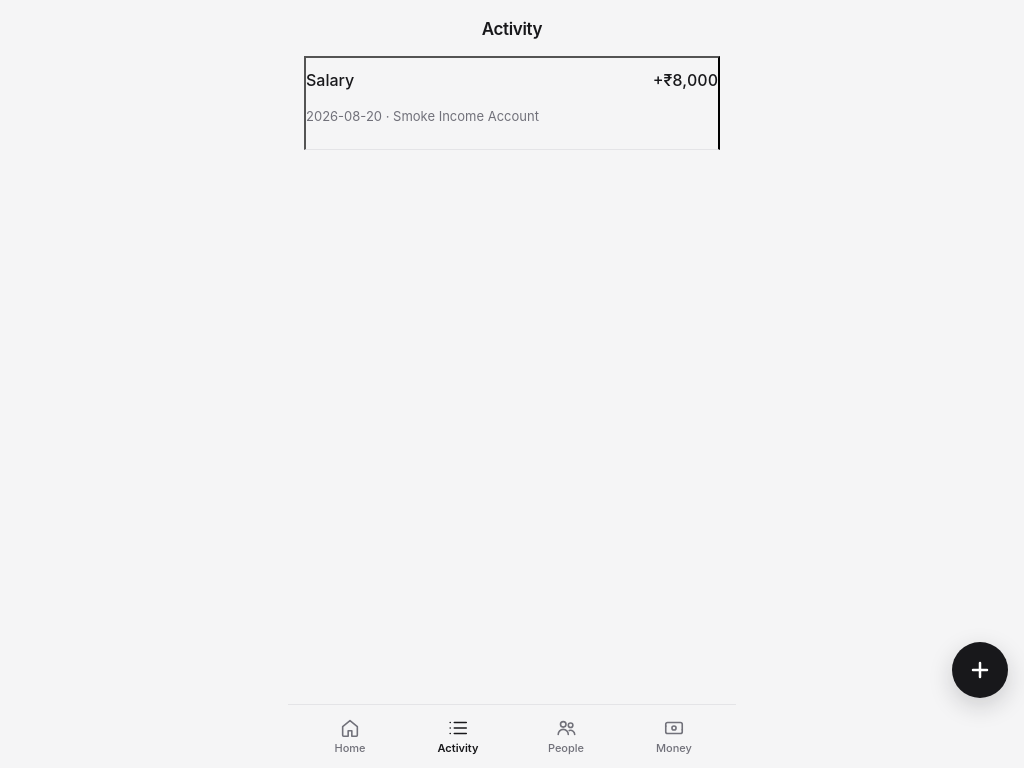
correction form family dispatch › does not mount either correction form for salary
The image size is (1024, 768).
Click the text "Salary" at (330, 80), box [306, 69, 354, 92]
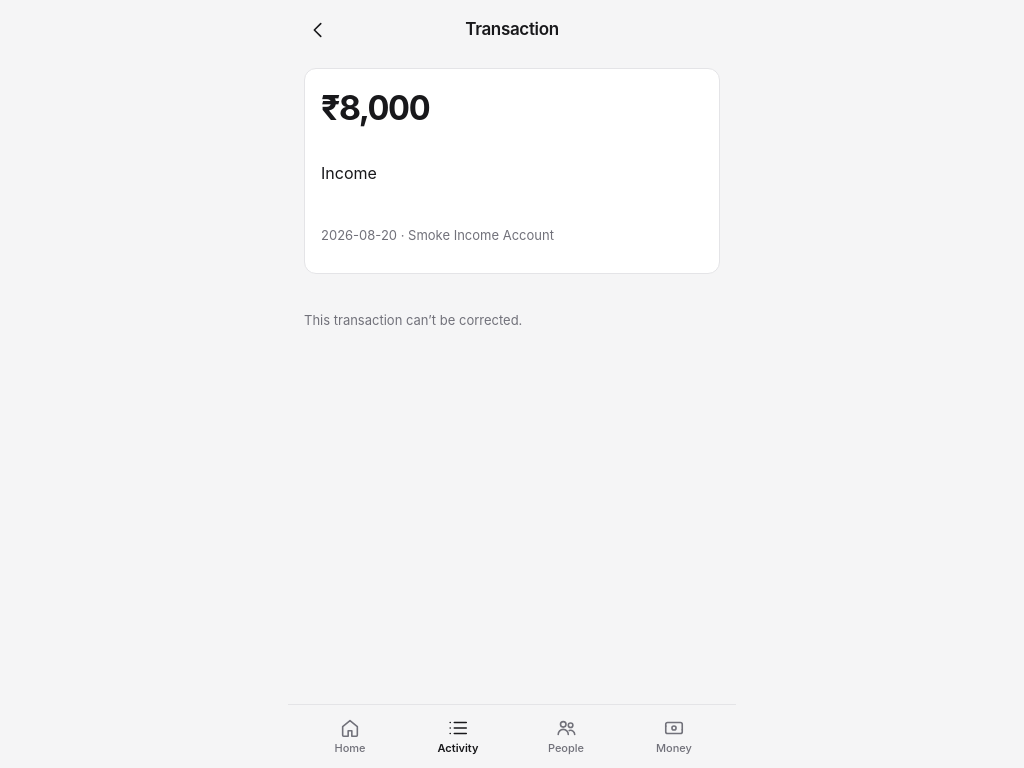
Expected: the text "This transaction can’t be corrected." is shown, [304, 312, 522, 328]
